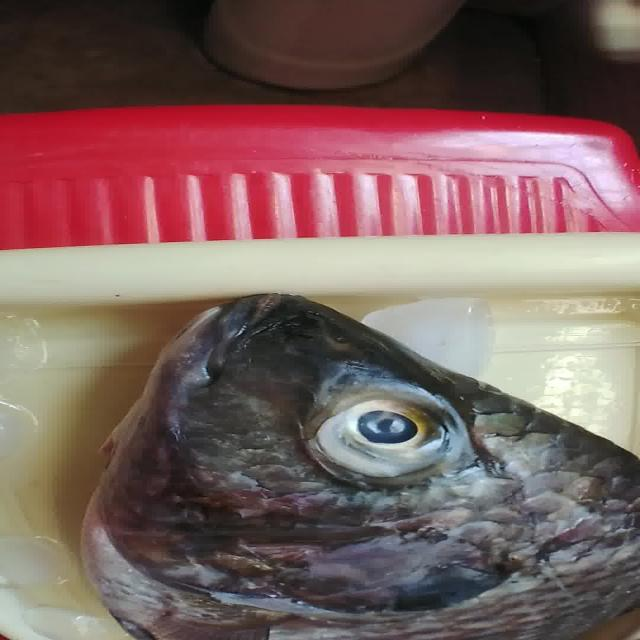Fresh: (295, 382, 477, 480)
